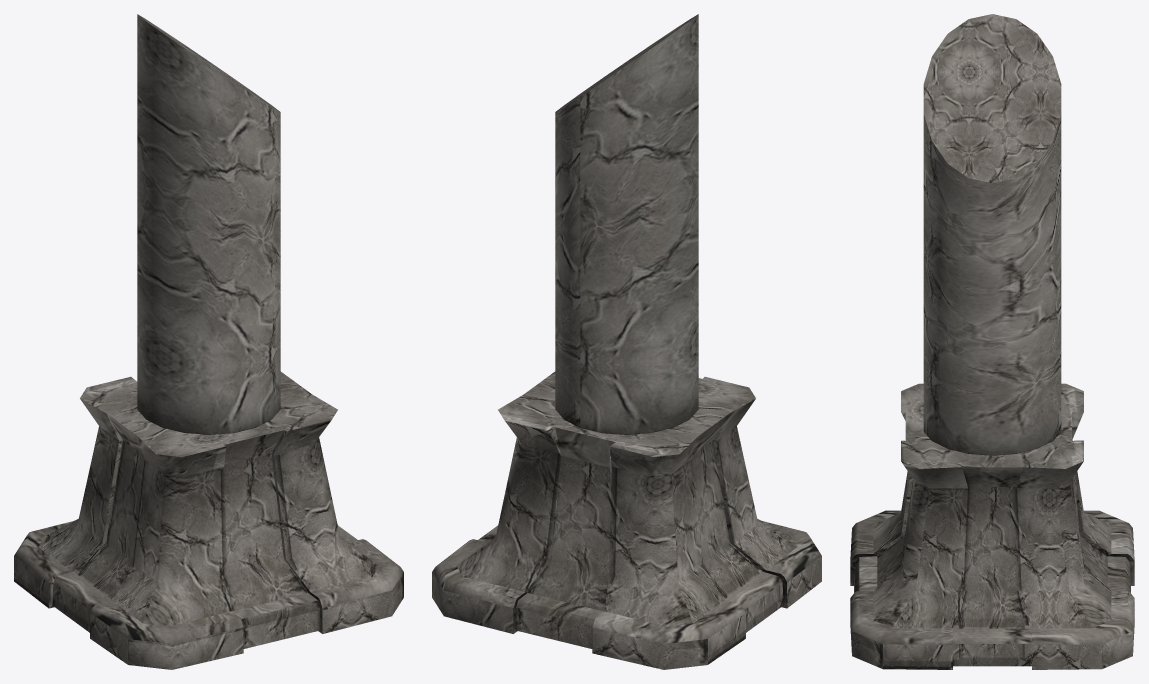
The model's file is ColonneBroken 1.FBX.
3 renders of one model, left to right at view 1: azimuth 30°, elevation 25°; view 2: azimuth 150°, elevation 25°; view 3: azimuth 270°, elevation 25°, orthographic. The views are drawn at different scales.
Visible parts, largest first — view 1: Column_Full002; view 2: Column_Full002; view 3: Column_Full002.
Boxes of the visible parts, x1=… form: Column_Full002: x1=14, y1=14, x2=403, y2=669; Column_Full002: x1=432, y1=14, x2=821, y2=669; Column_Full002: x1=850, y1=14, x2=1134, y2=669.
Size of the model in its own units: 245 by 491 by 225.
